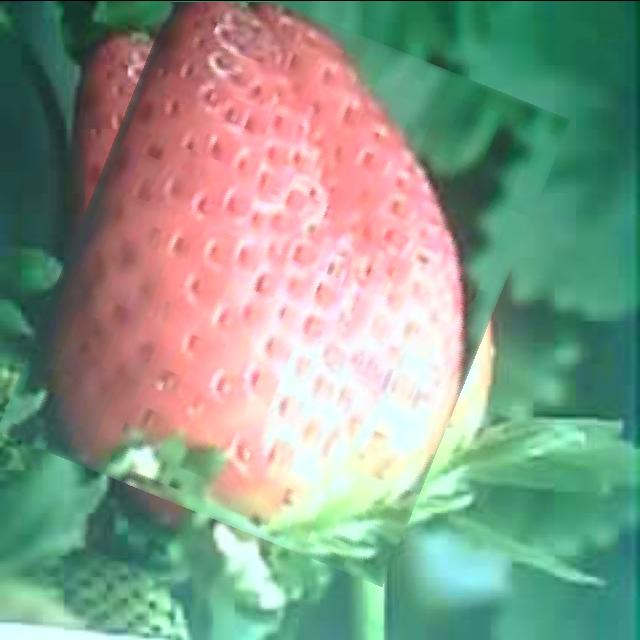strawberry: (37, 0, 532, 556)
